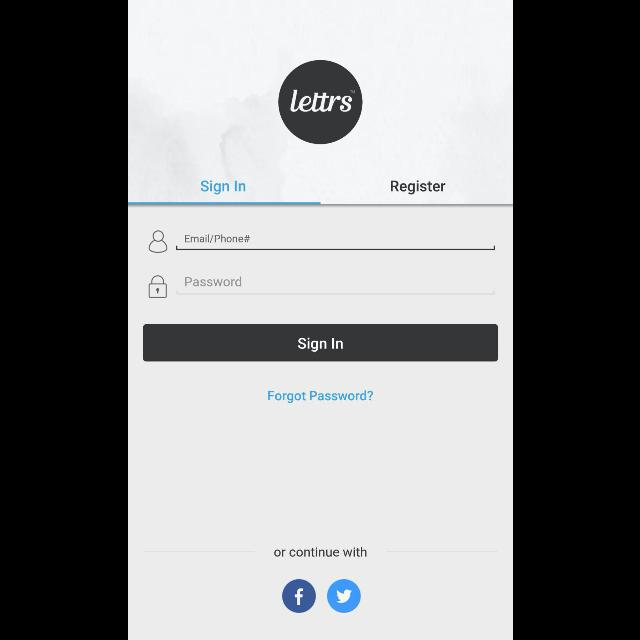icon: (326, 579, 360, 613), (281, 579, 315, 613), (148, 230, 168, 253), (148, 276, 166, 298)
image: (278, 60, 362, 144)
input: (176, 276, 494, 294), (175, 234, 495, 250)
multitab: (128, 170, 512, 207)
text: (268, 391, 372, 404), (274, 546, 366, 558), (390, 180, 444, 194), (200, 180, 244, 194), (184, 234, 250, 243), (184, 277, 240, 287)
textbutton: (142, 324, 498, 362)
